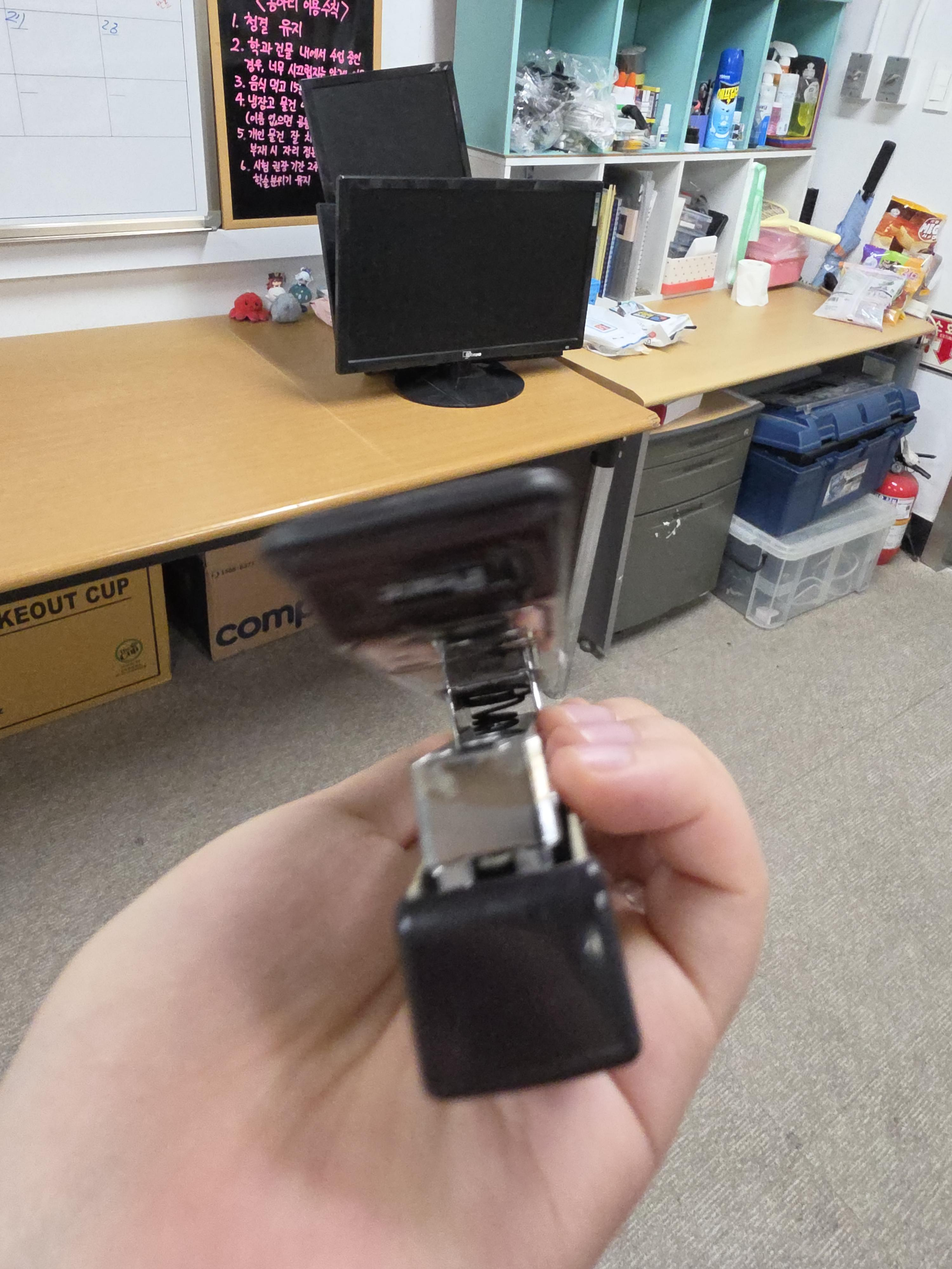stapler: (257, 466, 643, 1102)
tissue: (736, 258, 771, 307)
